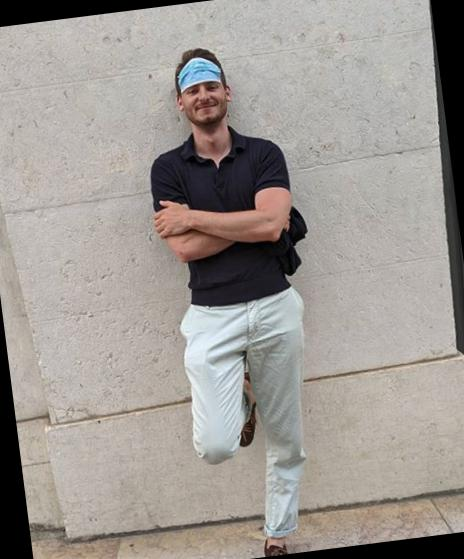mask_weared_incorrect: (174, 62, 232, 125)
